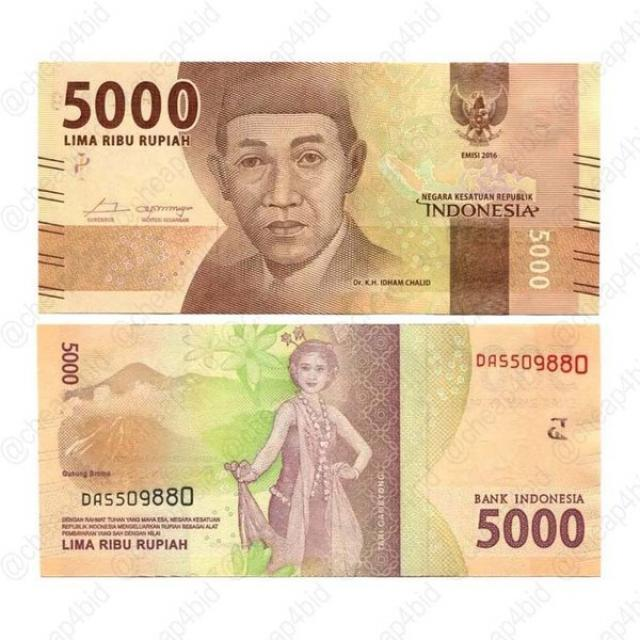lima ribu rupiah: (38, 50, 601, 320), (43, 318, 601, 578)
